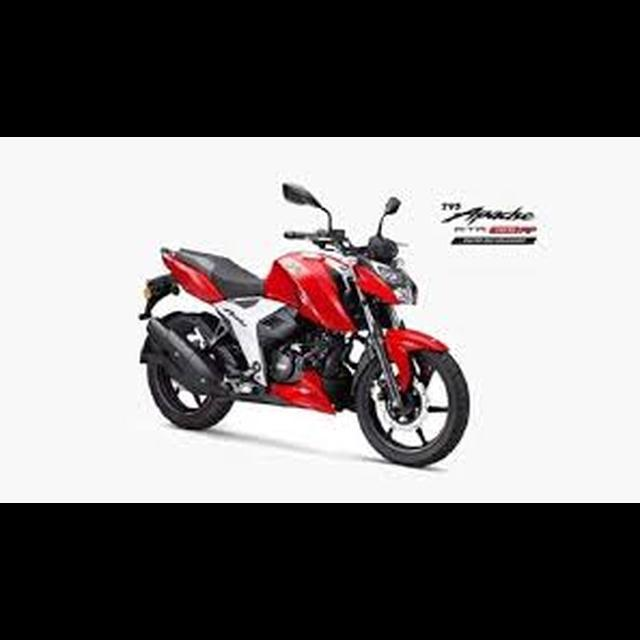motorcycle: (133, 177, 474, 472)
